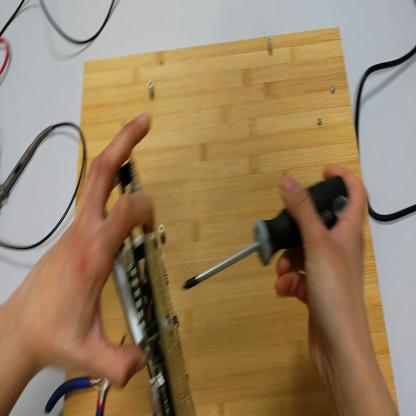hand: (26, 114, 155, 391), (275, 162, 372, 373)
low voltage board: (115, 157, 197, 416)
oscilloscope probe tip: (1, 123, 52, 210)
pliers: (44, 335, 127, 413)
screwdriver-: (180, 172, 344, 296)
working area: (64, 23, 399, 415)
